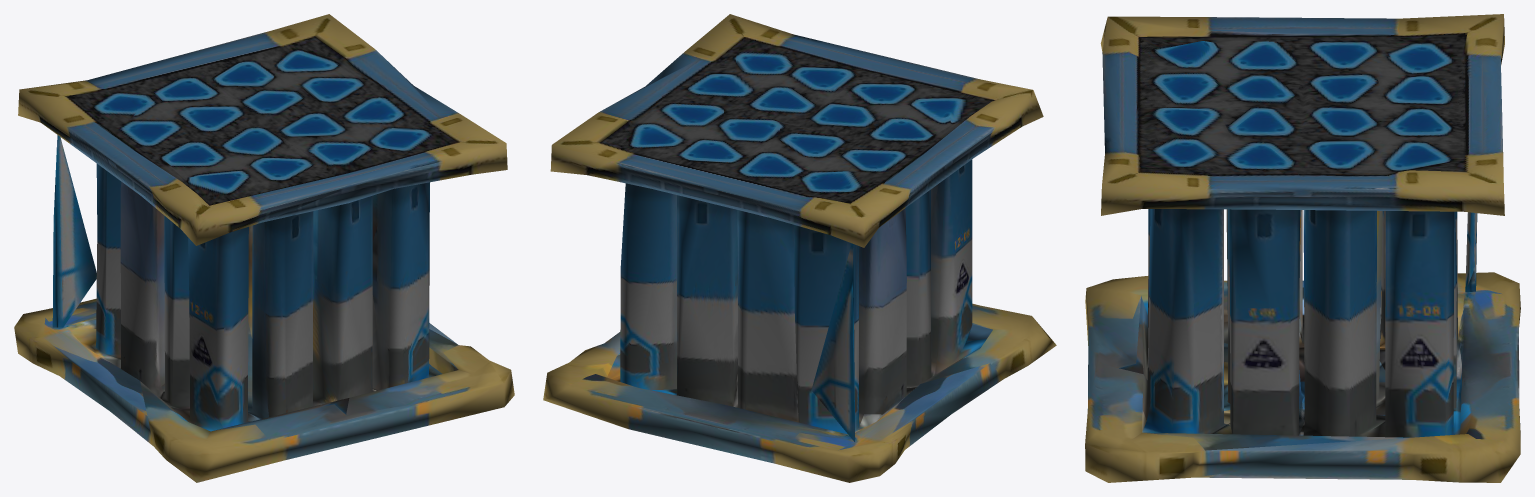
3 renders of one model, left to right at view 1: azimuth 30°, elevation 25°; view 2: azimuth 150°, elevation 25°; view 3: azimuth 270°, elevation 25°, orthographic. The views are drawn at different scales.
Parts seen in each view (by area): view 1: tripo_node_ff4152c1; view 2: tripo_node_ff4152c1; view 3: tripo_node_ff4152c1.
Boxes of the visible parts, left/top/right/bottom form: tripo_node_ff4152c1: left=14, top=14, right=514, bottom=482; tripo_node_ff4152c1: left=543, top=14, right=1056, bottom=482; tripo_node_ff4152c1: left=1085, top=14, right=1520, bottom=482.
Size of the model in its own units: 0.9918 by 0.7393 by 0.9974.
Materials: 1 (1 with a texture image).
